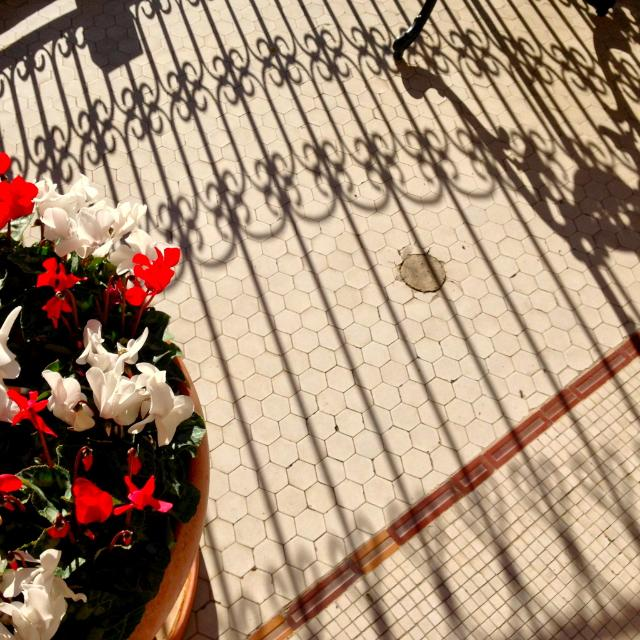Flower: (33, 176, 157, 272), (0, 548, 86, 640), (131, 364, 195, 451), (77, 317, 155, 373), (74, 479, 124, 538), (37, 256, 75, 328), (1, 149, 36, 227), (4, 388, 56, 438), (132, 250, 180, 304), (86, 366, 130, 419), (117, 476, 169, 512), (1, 304, 22, 390)
